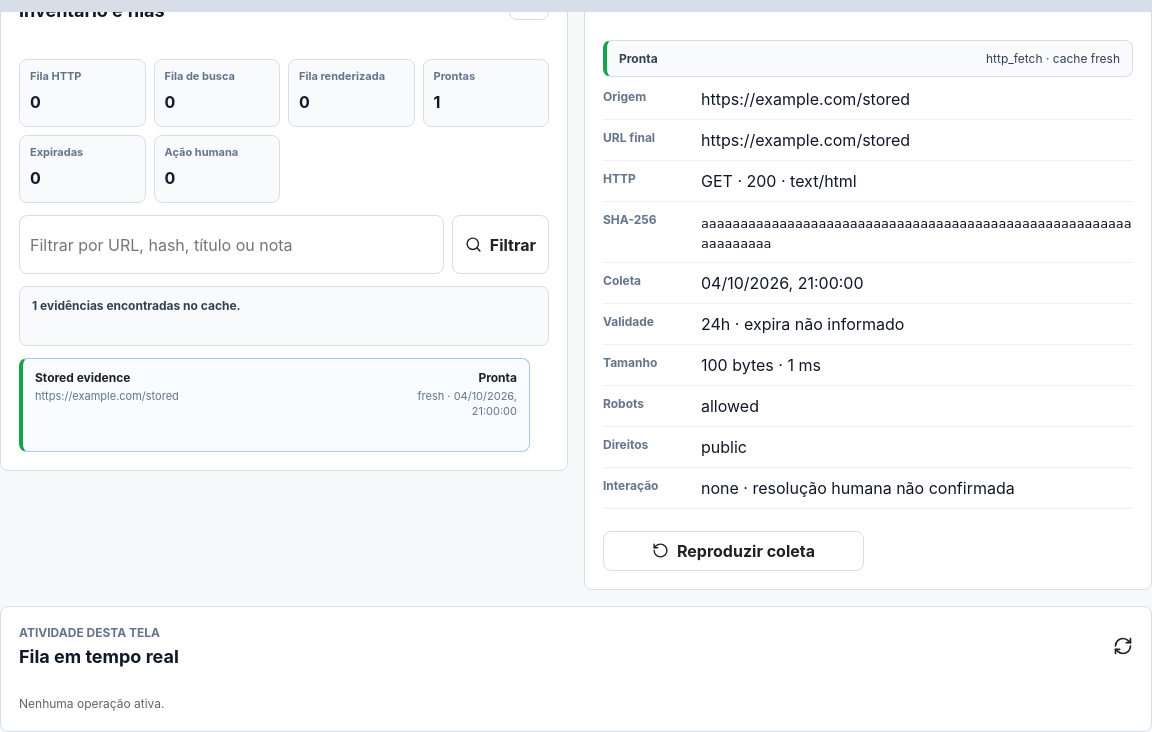
Test case: EvidenceScreen busy ownership › locks mutations during a detail reload and restores controls after a rejected read
(page scrolled)
Click the button "Stored evidence" at (83, 378), box [19, 358, 530, 452]
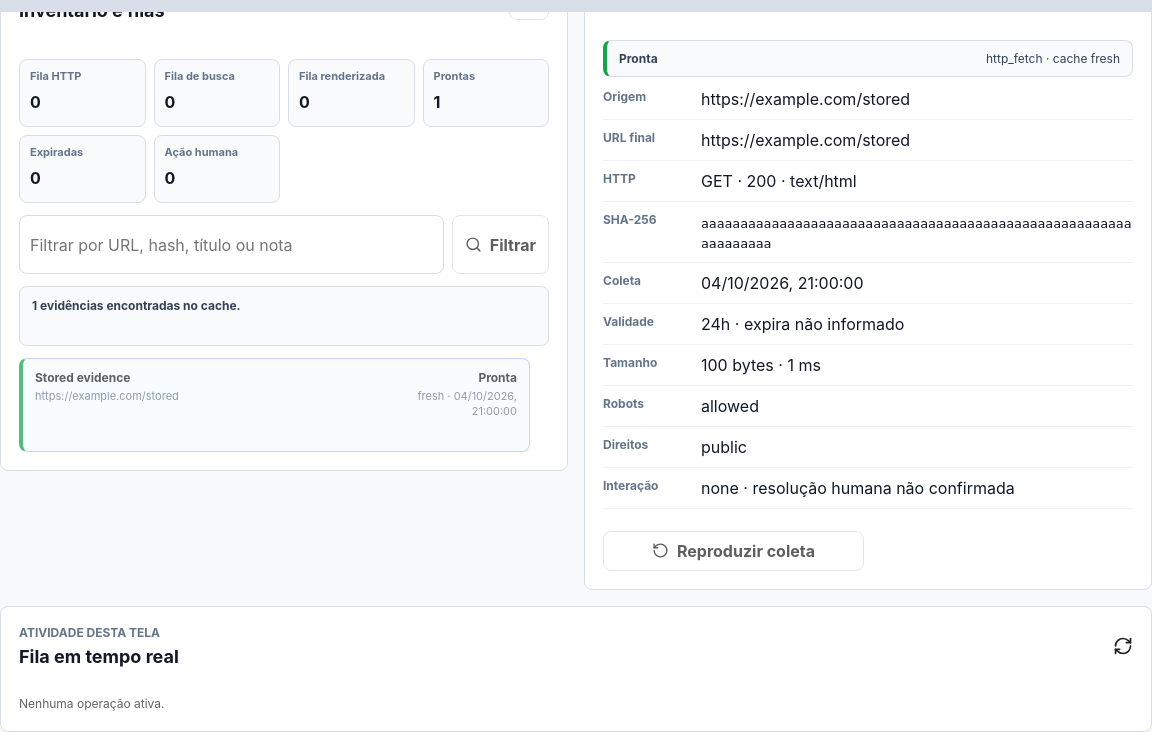
Click the button "Stored evidence" at (83, 378), box [19, 358, 530, 452]
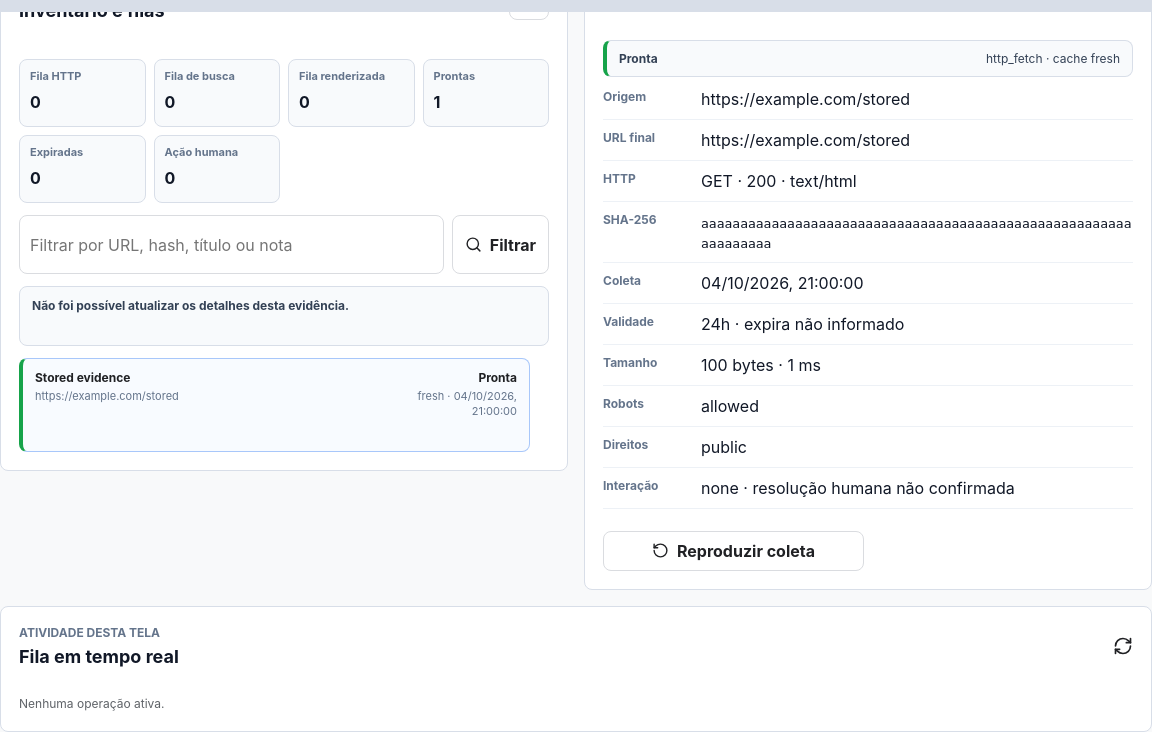
Check: the button "Stored evidence" is enabled, box [19, 358, 530, 452]
Check: the text "Não foi possível atualizar os detalhes desta evidência." is shown, box [19, 286, 549, 346]
